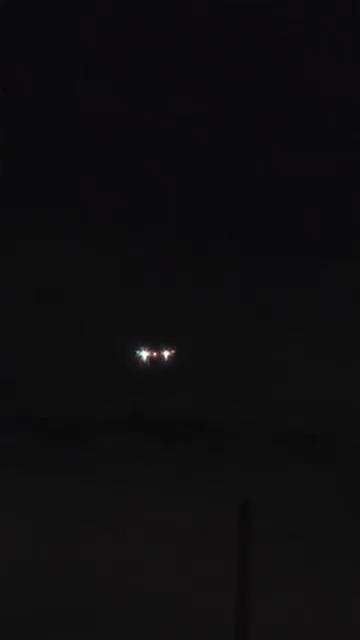Plane: (111, 311, 195, 397)
